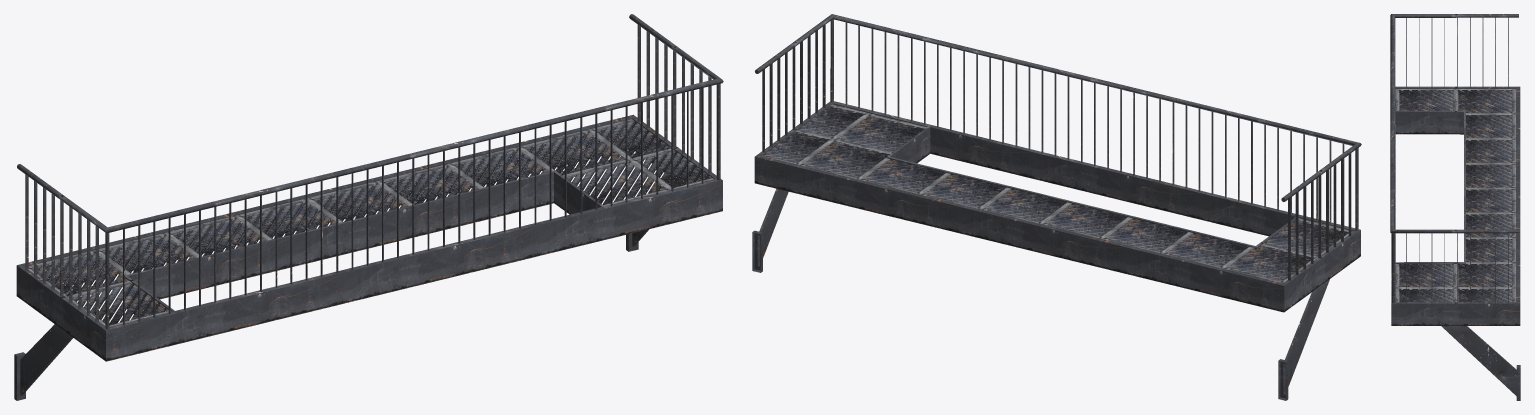
File: BUILDING_exteriorStairwell_01LOD0.FBX
3 renders of one model, left to right at view 1: azimuth 30°, elevation 25°; view 2: azimuth 150°, elevation 25°; view 3: azimuth 270°, elevation 25°, orthographic. The views are drawn at different scales.
Parts seen in each view (by area): view 1: BUILDING_exteriorStairwell_01_base, BUILDING_exteriorStairwell_01_floor; view 2: BUILDING_exteriorStairwell_01_base, BUILDING_exteriorStairwell_01_floor; view 3: BUILDING_exteriorStairwell_01_floor, BUILDING_exteriorStairwell_01_base.
Part boxes in pixels (bbox=[...]): BUILDING_exteriorStairwell_01_base: bbox=[14, 14, 723, 400]; BUILDING_exteriorStairwell_01_floor: bbox=[28, 119, 713, 326]; BUILDING_exteriorStairwell_01_base: bbox=[752, 14, 1361, 400]; BUILDING_exteriorStairwell_01_floor: bbox=[762, 104, 1353, 282]; BUILDING_exteriorStairwell_01_floor: bbox=[1395, 89, 1515, 302]; BUILDING_exteriorStairwell_01_base: bbox=[1390, 14, 1520, 400].
Size of the model in its own units: 637 by 230 by 160.
2 materials, 2 textured.
